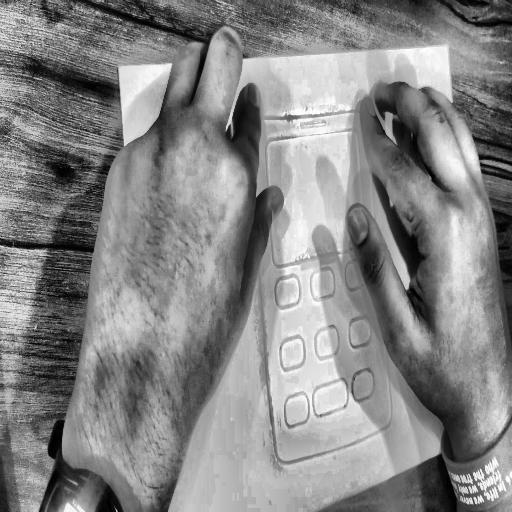bottom_right: (480, 423, 489, 438)
mobile: (239, 67, 404, 479)
top_left: (116, 62, 123, 74)
top_right: (444, 41, 452, 53)
